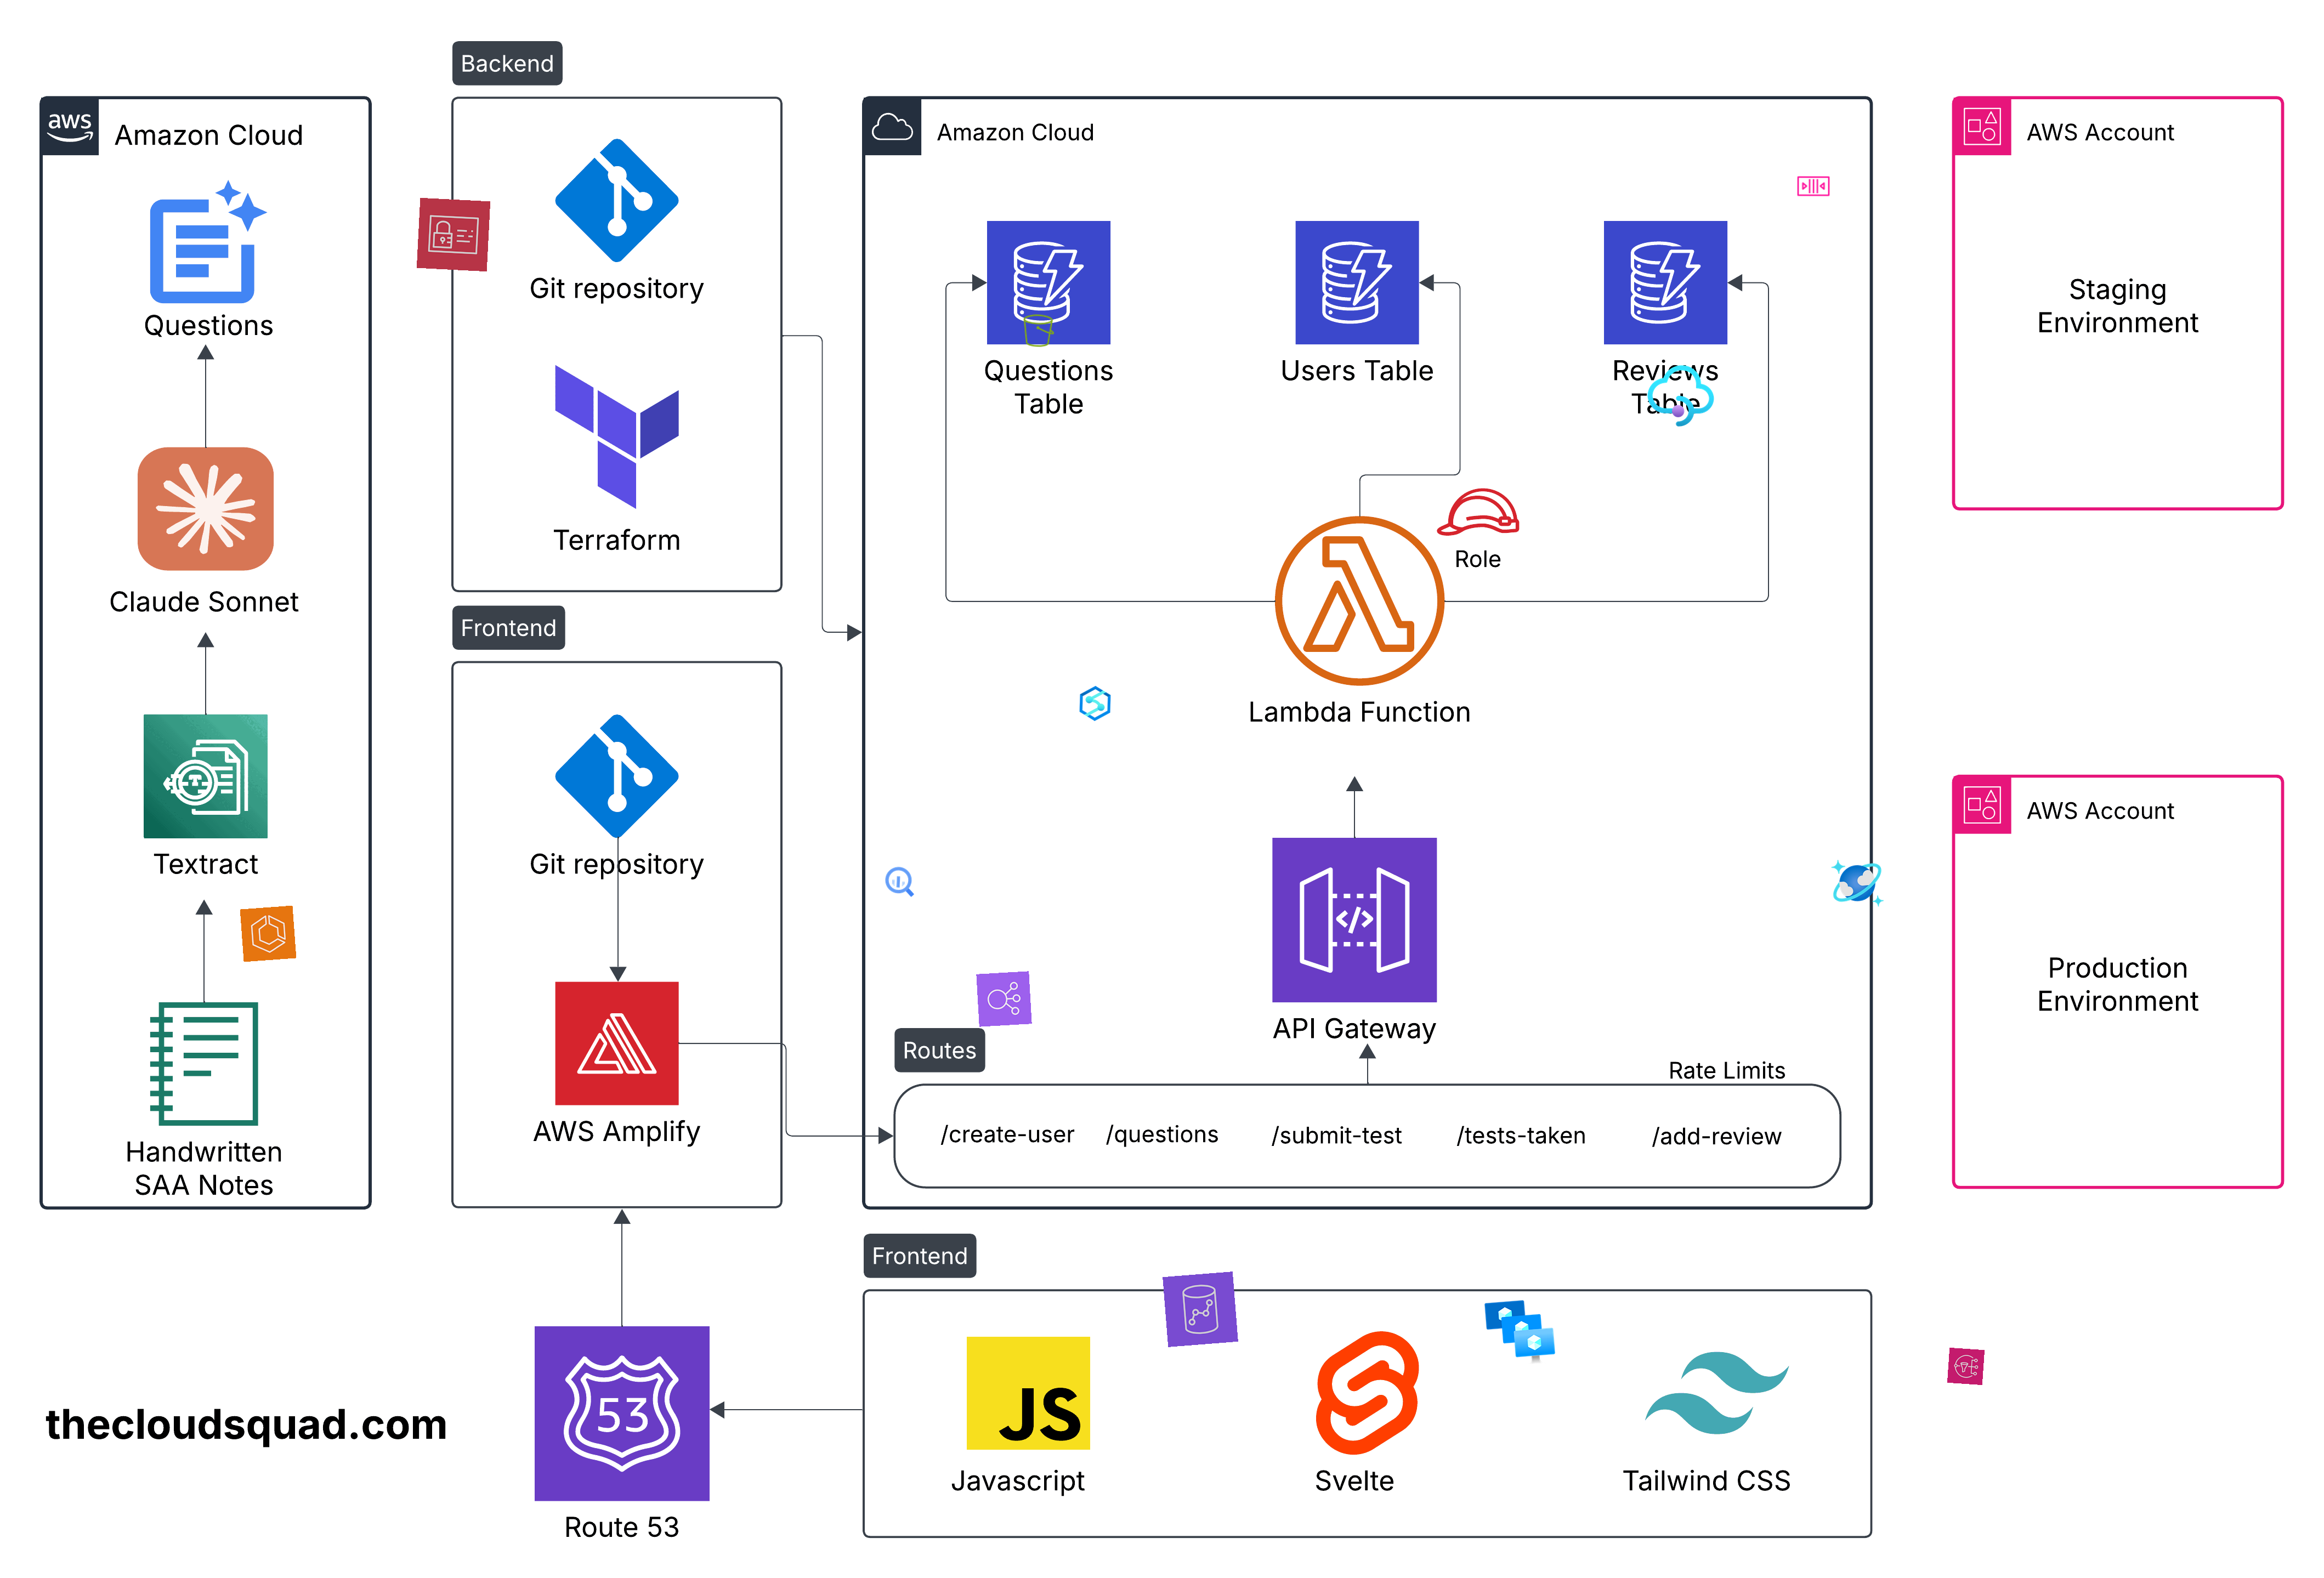aws_amazon_elastic_container_service: (239, 905, 298, 962)
aws_amazon_redshift: (1162, 1272, 1238, 1347)
aws_amazon_simple_notification_service: (1947, 1347, 1986, 1386)
aws_elastic_load_balancing: (975, 970, 1032, 1027)
aws_identity_and_access_management: (416, 197, 491, 271)
aws_simple_queue_service_queue: (1796, 167, 1831, 204)
aws_simple_storage_service_bucket: (1019, 312, 1058, 349)
azure_api_management_services: (1644, 361, 1717, 431)
azure_cosmos_db: (1829, 854, 1886, 912)
azure_synapse_analytics: (1077, 685, 1113, 722)
azure_vm_scale_sets: (1481, 1294, 1556, 1370)
gcp_bigquery: (882, 863, 919, 900)
